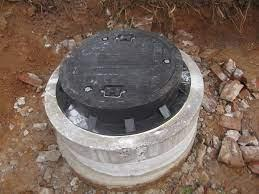closed manhole-not overflowing-: (41, 26, 203, 153)
